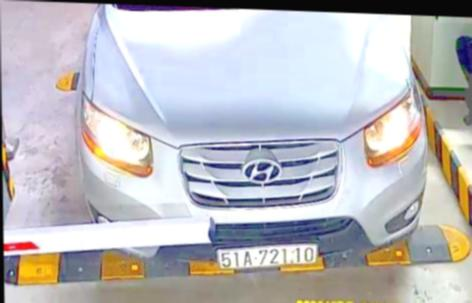License_Plate: (218, 240, 320, 274)
